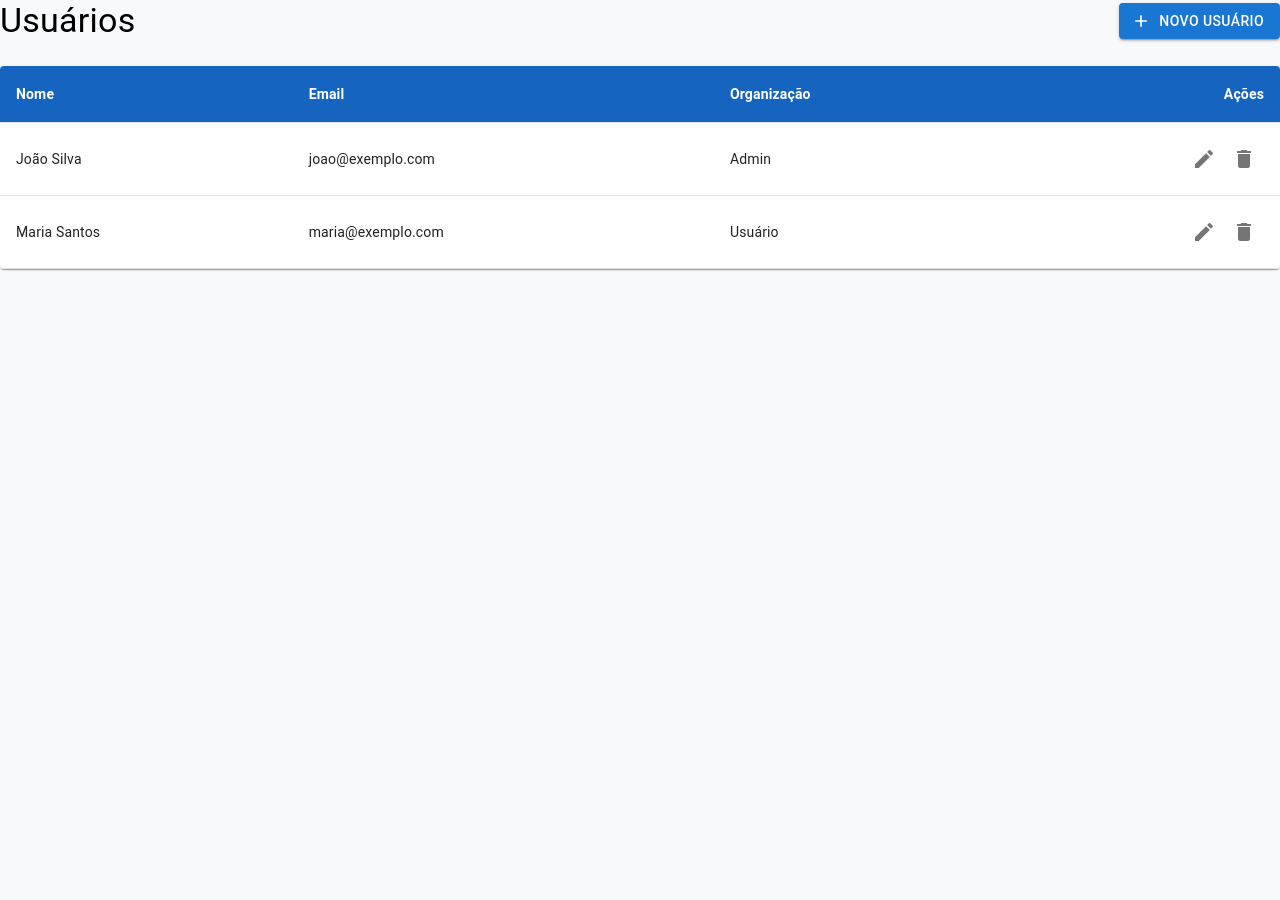
Test: ADMIN - Users CRUD › deve excluir um usuário
Check: the text "João Silva" is shown, box [0, 122, 293, 196]
Click the button named "excluir" in the row of "João Silva": x=1244, y=159 [1224, 139, 1264, 179]
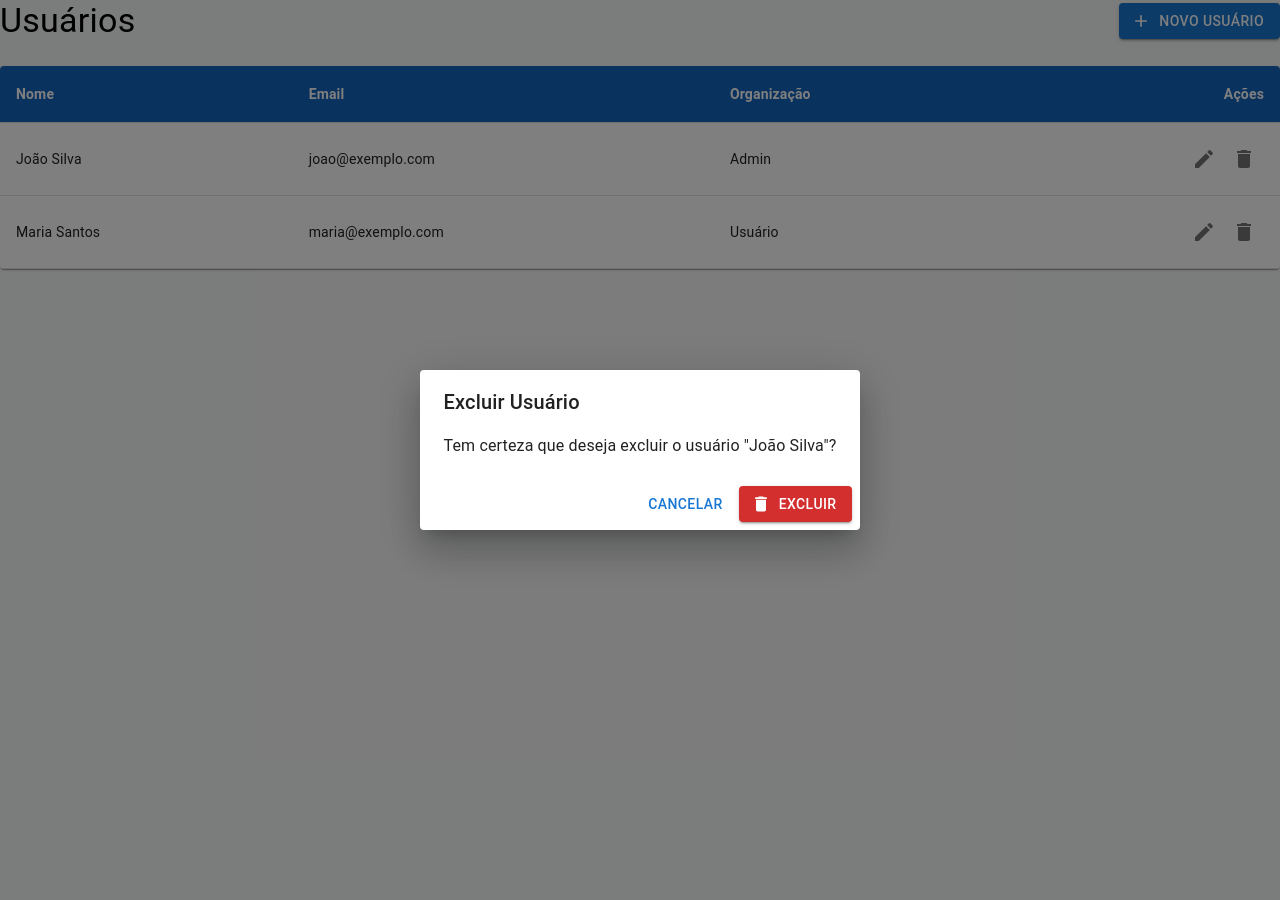
Click the button "Excluir": x=796, y=504 [739, 486, 852, 522]
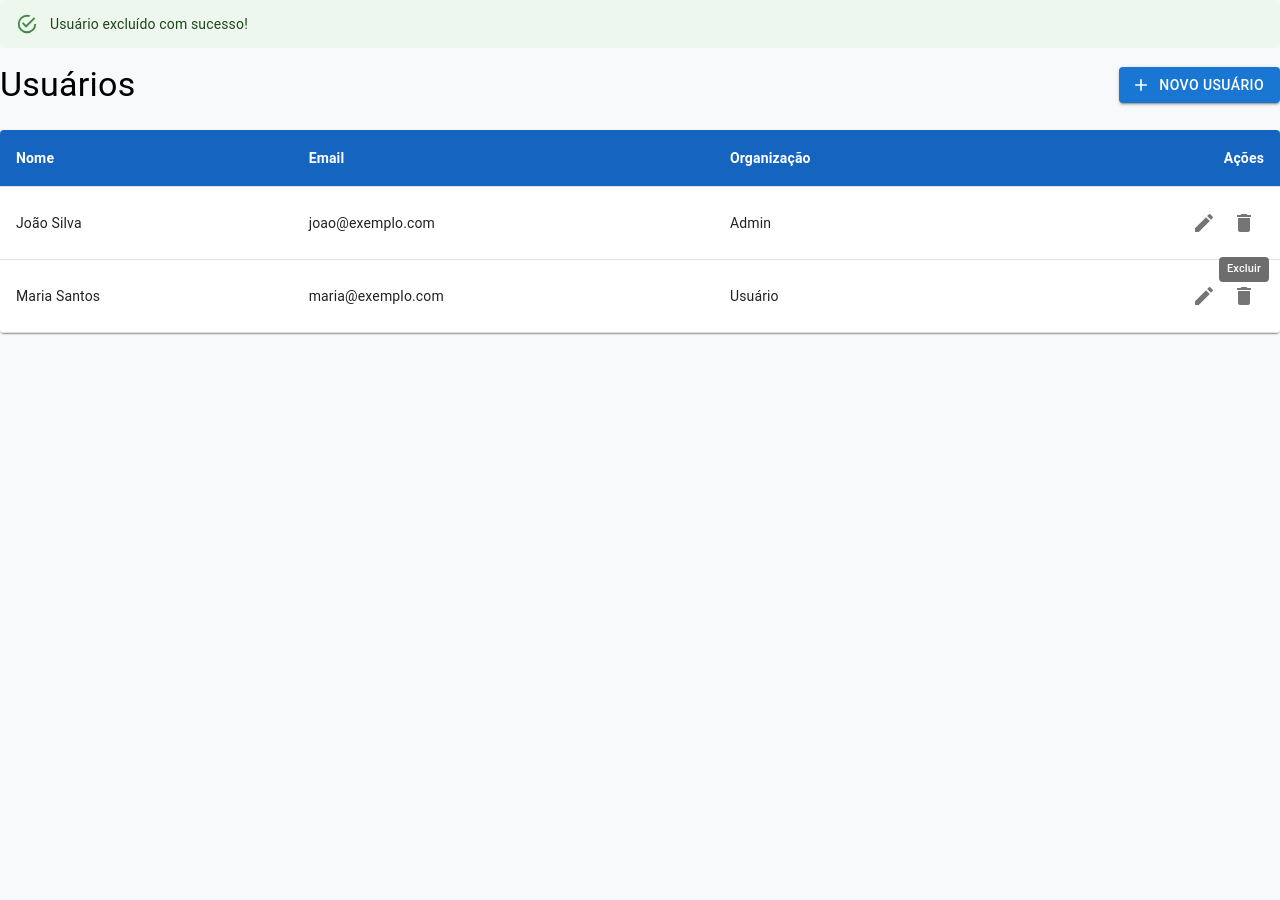
Check: the text "Usuário excluído com sucesso!" is shown, box [50, 16, 248, 32]
